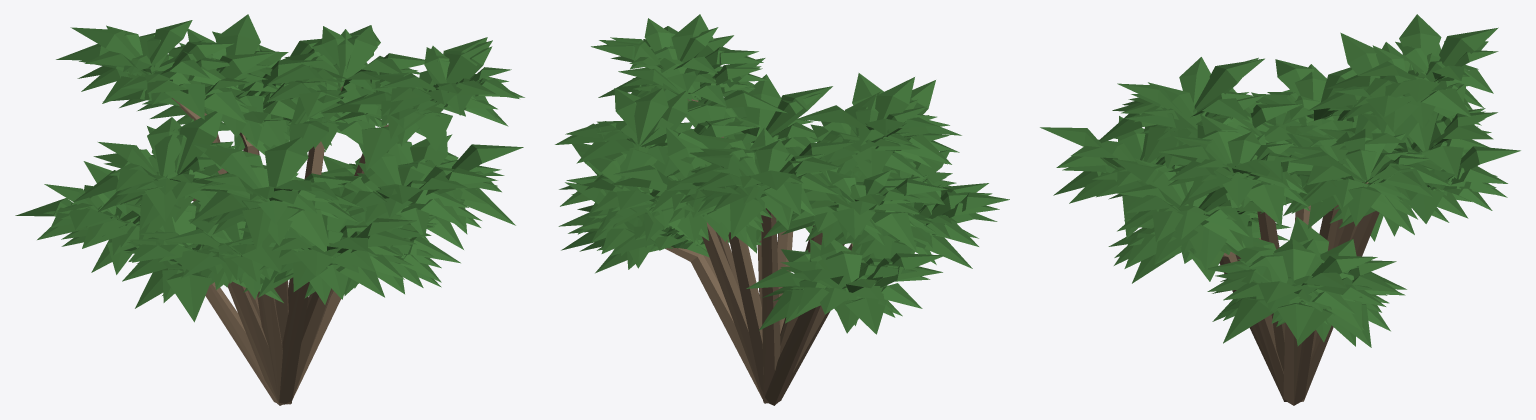
File: shrub_lod0.glb
3 renders of one model, left to right at view 1: azimuth 30°, elevation 25°; view 2: azimuth 150°, elevation 25°; view 3: azimuth 270°, elevation 25°, orthographic. The views are drawn at different scales.
Visible parts, largest first — view 1: shrub; view 2: shrub; view 3: shrub.
Boxes of the visible parts, bbox=[...] form: shrub: bbox=[15, 14, 524, 405]; shrub: bbox=[555, 14, 1009, 405]; shrub: bbox=[1040, 14, 1520, 405].
Bounding box in the file's own units: 1.21 × 0.8679 × 1.18.
